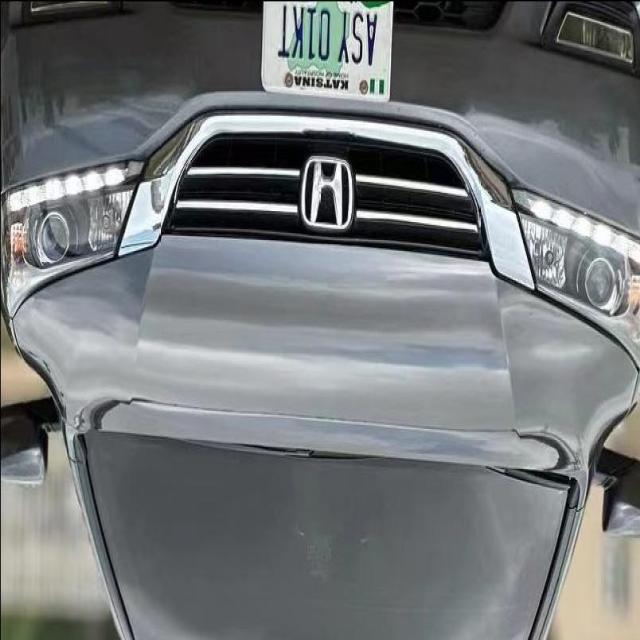Nigerian License Plate - vdataset benjamin-daria: (255, 0, 396, 108)
